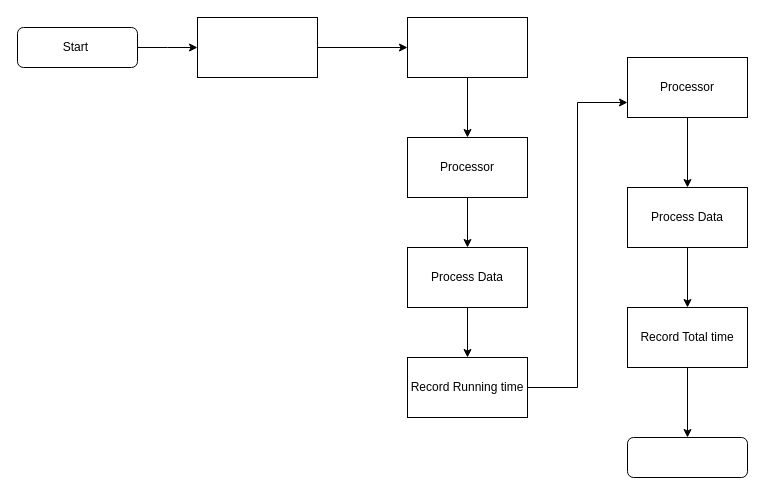
Image size: 765x495. Some labels were removed from this diagram. Each missing label, with the centre of its shape:
"END" goes at [687,457].
"Load Data" goes at [257,47].
"Sequential Process Data" goes at [467,47].
